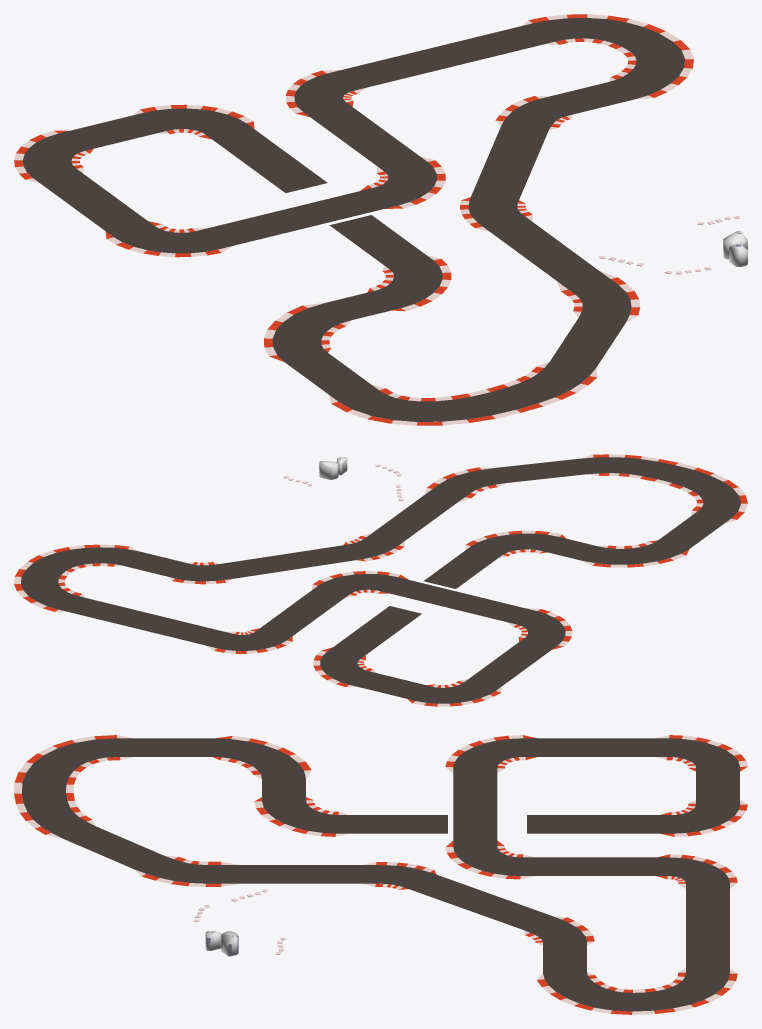
File: scenery.glb
The picture shows the model from 3 angles, top to bottom: view 1: azimuth 30°, elevation 25°; view 2: azimuth 150°, elevation 25°; view 3: azimuth 270°, elevation 25°; orthographic projection. The views are drawn at different scales.
Visible parts, largest first — view 1: refRoad, Cube.076, Cube.049, Cube.078, Cube.079, Cube.071, Cube.066, Cube.072, Cube.067, Cube.075, Cube.064; view 2: refRoad, Cube.076, Cube.049, Cube.078, Cube.079, Cube.067, Cube.072, Cube.071, Cube.075, Cube.066, Cube.064; view 3: refRoad, Cube.076, Cube.049, Cube.078, Cube.079, Cube.071, Cube.072, Cube.075, Cube.067, Cube.066, Cube.064.
Boxes of the visible parts, <box> form: refRoad: <box>23,18,684,421</box>; Cube.076: <box>329,362,597,425</box>; Cube.049: <box>522,14,693,99</box>; Cube.078: <box>264,303,351,361</box>; Cube.079: <box>367,255,451,311</box>; Cube.071: <box>105,221,232,257</box>; Cube.066: <box>133,104,254,139</box>; Cube.072: <box>360,156,445,208</box>; Cube.067: <box>14,130,93,183</box>; Cube.075: <box>557,271,640,322</box>; Cube.064: <box>285,70,365,116</box>; refRoad: <box>21,457,740,703</box>; Cube.076: <box>580,454,747,523</box>; Cube.049: <box>14,544,138,611</box>; Cube.078: <box>580,540,689,567</box>; Cube.079: <box>465,530,565,557</box>; Cube.067: <box>407,679,501,706</box>; Cube.072: <box>312,571,408,597</box>; Cube.071: <box>507,608,572,649</box>; Cube.075: <box>424,467,504,502</box>; Cube.066: <box>313,647,376,687</box>; Cube.064: <box>206,628,292,653</box>; refRoad: <box>22,738,739,1011</box>; Cube.076: <box>14,735,133,838</box>; Cube.049: <box>537,968,737,1014</box>; Cube.078: <box>213,736,311,779</box>; Cube.079: <box>254,797,347,836</box>; Cube.071: <box>445,735,536,773</box>; Cube.072: <box>445,840,534,879</box>; Cube.075: <box>134,855,240,886</box>; Cube.067: <box>656,735,747,771</box>; Cube.066: <box>660,800,747,836</box>; Cube.064: <box>657,854,737,888</box>.
Size of the model in its own units: 150 by 4.32 by 167.
Materials: 2 (1 with a texture image).
